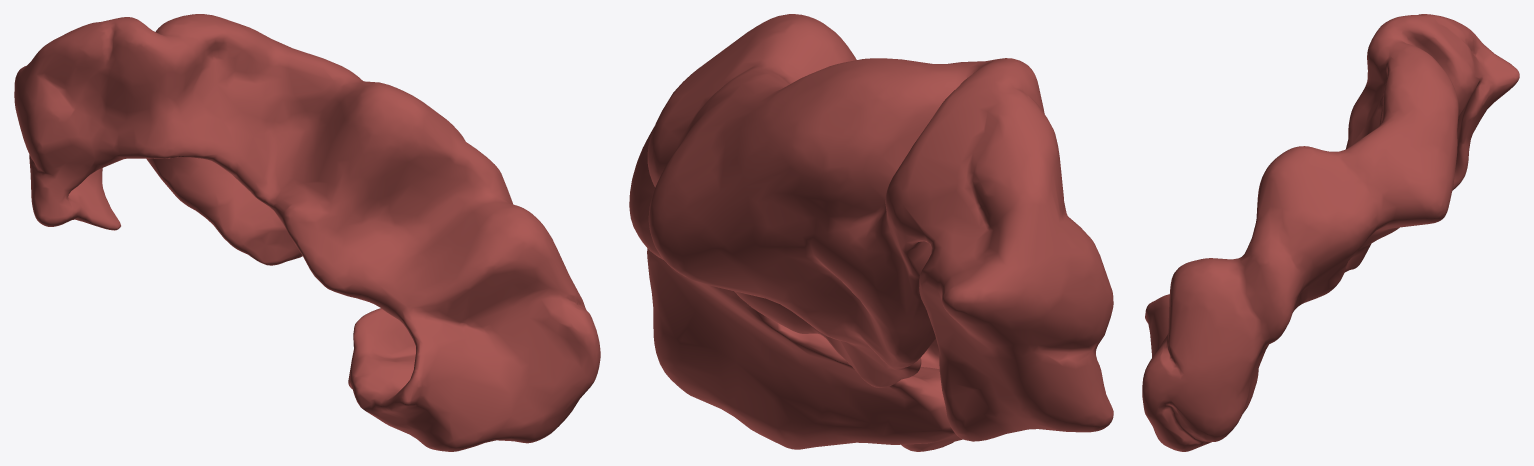
File: FMA72666.glb
The picture shows the model from 3 angles, left to right: view 1: azimuth 30°, elevation 25°; view 2: azimuth 150°, elevation 25°; view 3: azimuth 270°, elevation 25°; orthographic projection. The views are drawn at different scales.
Visible parts, largest first — view 1: FMA72666; view 2: FMA72666; view 3: FMA72666.
Boxes of the visible parts, bbox=[...] form: FMA72666: bbox=[14, 14, 600, 451]; FMA72666: bbox=[629, 14, 1113, 451]; FMA72666: bbox=[1142, 14, 1519, 451].
Size of the model in its own units: 0.0632 by 0.0566 by 0.0601.
